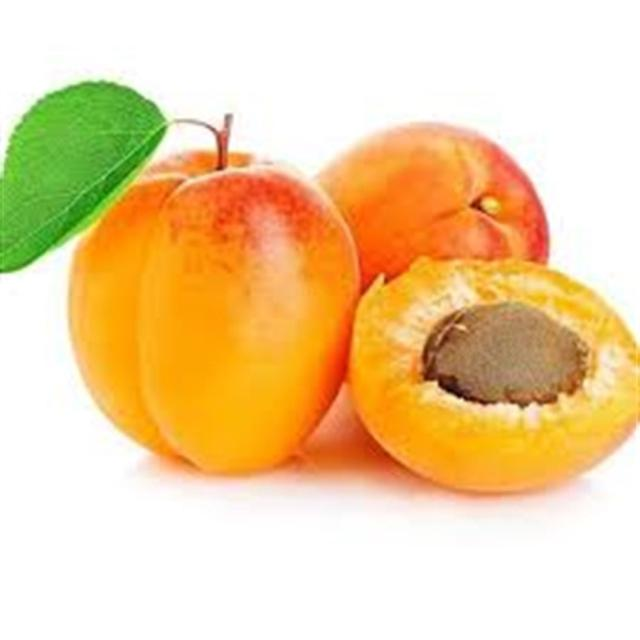cekirdek: (439, 314, 569, 396)
kayisi: (168, 221, 324, 448)
yaprak: (52, 88, 115, 213)
